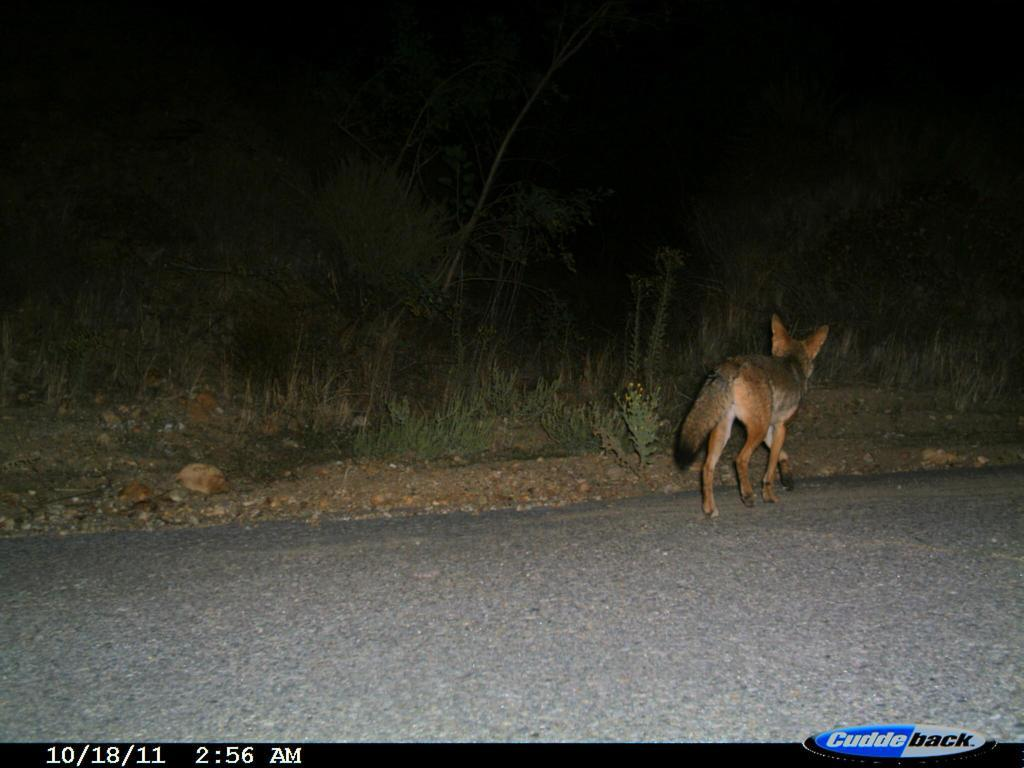coyote: (669, 308, 838, 520)
